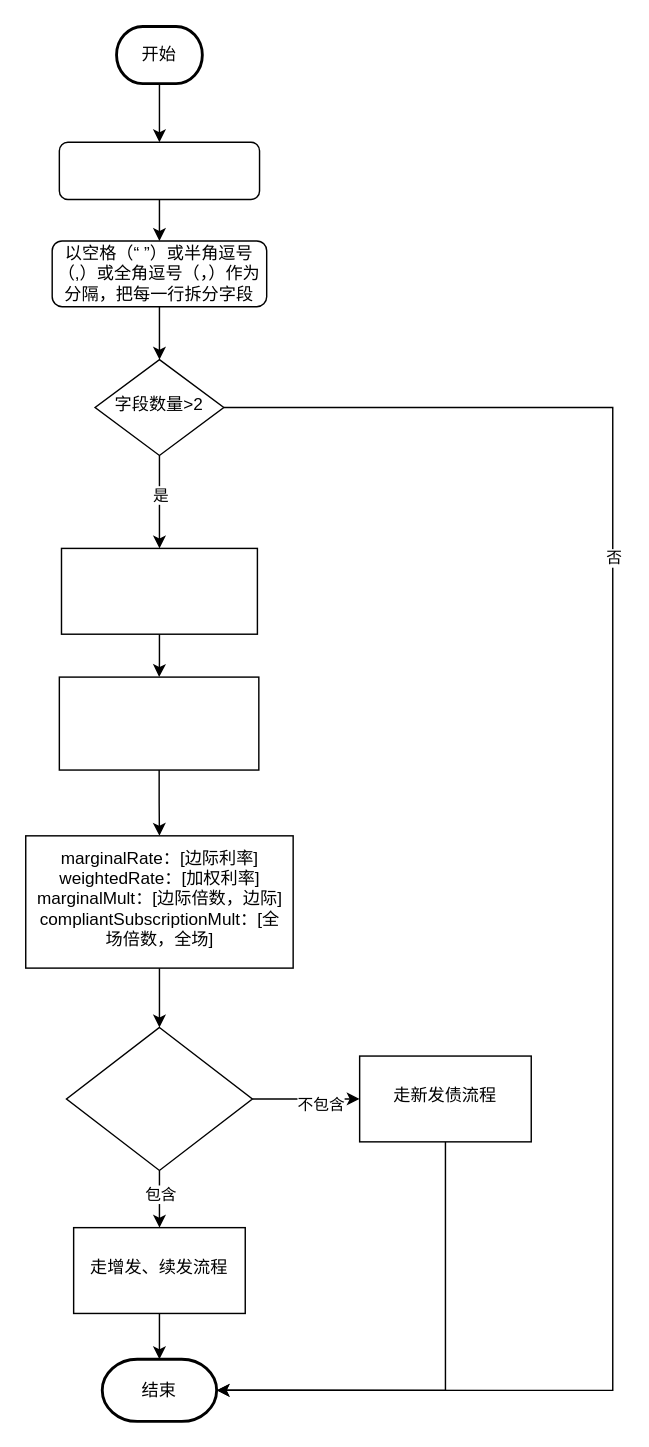
Image size: 649x1447. Some labels were removed from this diagram. The centre of each missing label's shape, as x and y in pixels:
Y债券代码包含 X或: (158,1098)
从第3个字段开始循环处理，根据字段的值包含相应的关键字，把对应的值赋给相应的字段: (158,723)
取数组第二个字段作为债券简代码: (158,590)
根据换行符把文本转成String[]数组: (159,170)
